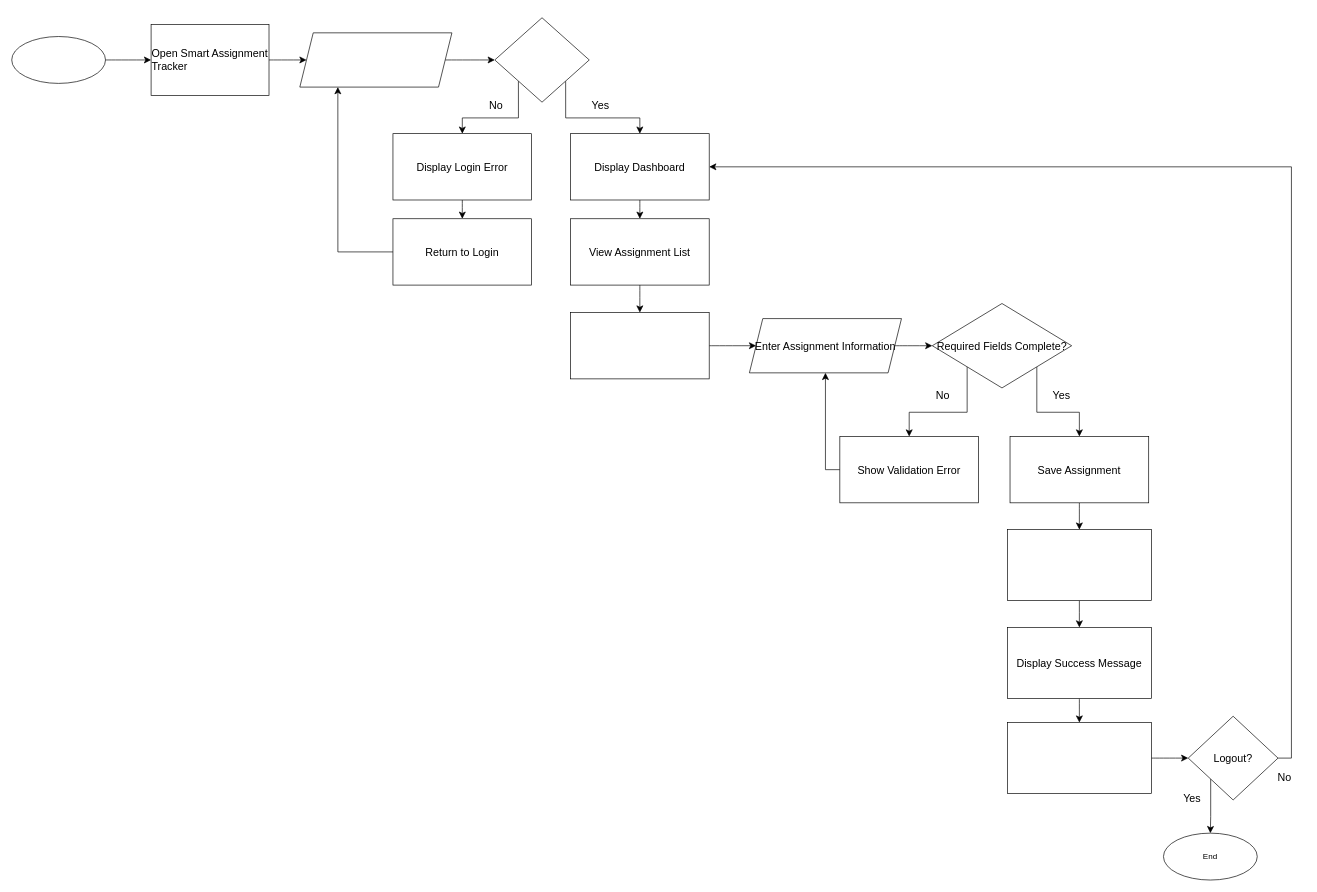
This 1317x892 diagram has some shape labels left out. The centre of each missing label's shape, as x and y in pixels:
"Click Add Assignment" belongs at pixel 639 345.
"Enter Email and Password" belongs at pixel 375 59.
"Login Successful?" belongs at pixel 541 59.
"Start" belongs at pixel 58 59.
"Update Assignment Database" belongs at pixel 1079 565.
"Update Dashboard" belongs at pixel 1079 758.
